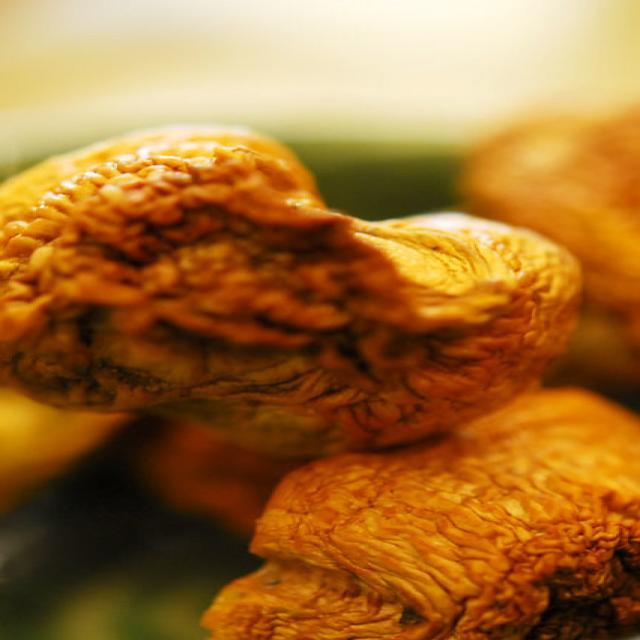Agaricus blazei Murill: (0, 125, 580, 446), (219, 393, 639, 640)
